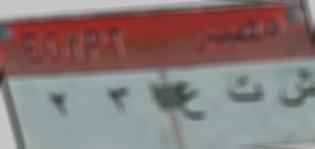2: (48, 85, 76, 128)
3: (105, 80, 139, 119)
ain: (175, 79, 208, 128)
sheen: (278, 70, 315, 106)
taa: (223, 75, 271, 113)
